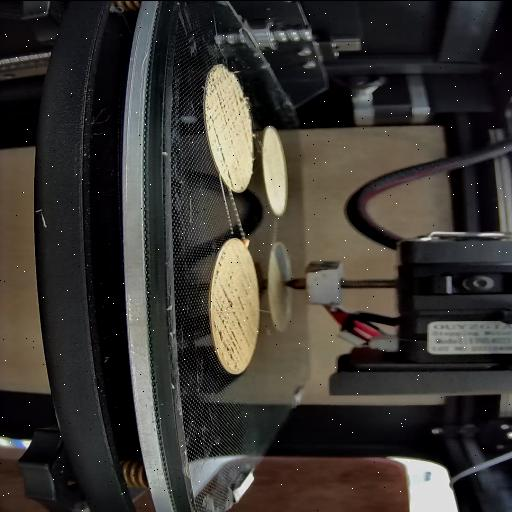under_extrusion: (206, 76, 248, 188), (216, 250, 252, 370)
